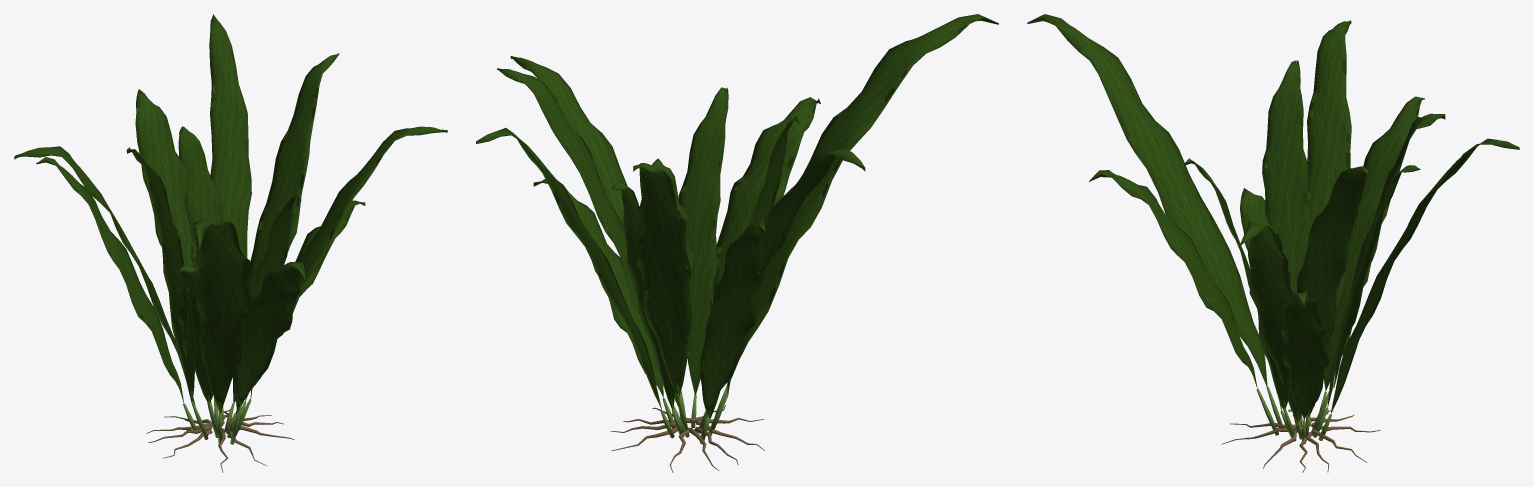
The picture shows the model from 3 angles, left to right: view 1: azimuth 30°, elevation 25°; view 2: azimuth 150°, elevation 25°; view 3: azimuth 270°, elevation 25°; orthographic projection. The views are drawn at different scales.
Visible parts, largest first — view 1: RiverPlant_Fern; view 2: RiverPlant_Fern; view 3: RiverPlant_Fern.
Part boxes in pixels (bbox=[...]): RiverPlant_Fern: bbox=[14, 14, 447, 472]; RiverPlant_Fern: bbox=[476, 14, 998, 472]; RiverPlant_Fern: bbox=[1027, 14, 1519, 472].
Size of the model in its own units: 1.47 by 1.24 by 1.57.
Materials: 3 (1 with a texture image).
